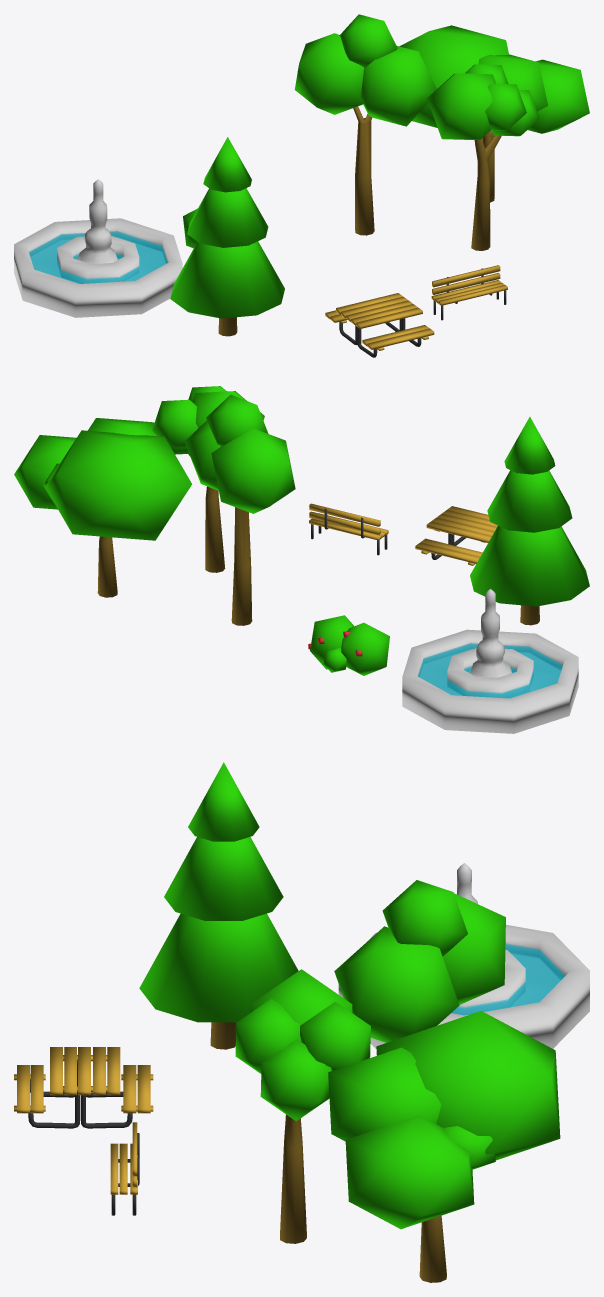
Rendered from ParkProps.fbx.
3 renders of one model, top to bottom at view 1: azimuth 30°, elevation 25°; view 2: azimuth 150°, elevation 25°; view 3: azimuth 270°, elevation 25°, orthographic. The views are drawn at different scales.
Parts seen in each view (by area): view 1: Fountain, Tree02, Tree01, Tree04, Tree03, PicnicTable, ParkBench; view 2: Tree04, Fountain, Tree01, Tree02, Tree03, Bush, PicnicTable, ParkBench; view 3: Tree04, Tree01, Tree02, Tree03, Fountain, PicnicTable, ParkBench.
Part boxes in pixels (<box>): Fountain: <box>14,179,182,317</box>; Tree02: <box>294,14,436,235</box>; Tree01: <box>170,137,284,336</box>; Tree04: <box>399,25,589,202</box>; Tree03: <box>427,64,539,250</box>; PicnicTable: <box>325,293,434,357</box>; ParkBench: <box>431,265,507,320</box>; Tree04: <box>14,418,191,597</box>; Fountain: <box>402,589,578,733</box>; Tree01: <box>470,417,589,625</box>; Tree02: <box>184,394,295,625</box>; Tree03: <box>152,386,264,572</box>; Bush: <box>308,615,389,675</box>; PicnicTable: <box>415,506,497,565</box>; ParkBench: <box>309,503,388,555</box>; Tree04: <box>328,1011,560,1282</box>; Tree01: <box>139,762,298,1049</box>; Tree02: <box>334,880,505,1042</box>; Tree03: <box>235,969,370,1243</box>; Fountain: <box>338,863,589,1048</box>; PicnicTable: <box>14,1047,153,1128</box>; ParkBench: <box>110,1122,139,1215</box>.
Bounding box in the file's own units: 2229 × 839 × 1417.
